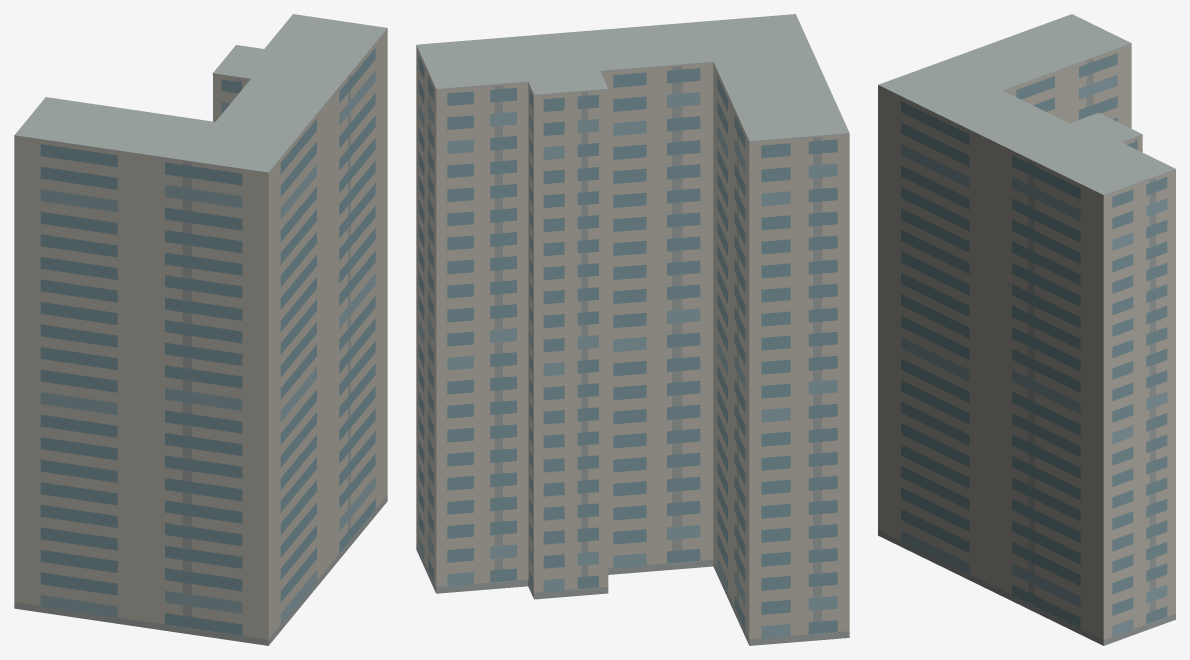
File: residential-80a59210-830d-424c-a1b6-bbc62a2a1782.glb
3 views of the same model, side by side, from view 1: azimuth 30°, elevation 25°; view 2: azimuth 150°, elevation 25°; view 3: azimuth 270°, elevation 25° (orthographic). The views are drawn at different scales.
Visible parts, largest first — view 1: residential-80a59210-830d-424c-a1b6-bbc62a2a1782.tmp; view 2: residential-80a59210-830d-424c-a1b6-bbc62a2a1782.tmp; view 3: residential-80a59210-830d-424c-a1b6-bbc62a2a1782.tmp.
Boxes of the visible parts, left/top/right/bottom form: residential-80a59210-830d-424c-a1b6-bbc62a2a1782.tmp: left=14, top=14, right=387, bottom=645; residential-80a59210-830d-424c-a1b6-bbc62a2a1782.tmp: left=416, top=14, right=849, bottom=645; residential-80a59210-830d-424c-a1b6-bbc62a2a1782.tmp: left=878, top=14, right=1175, bottom=645.
Bounding box in the file's own units: 55.21 × 64.05 × 38.36.
